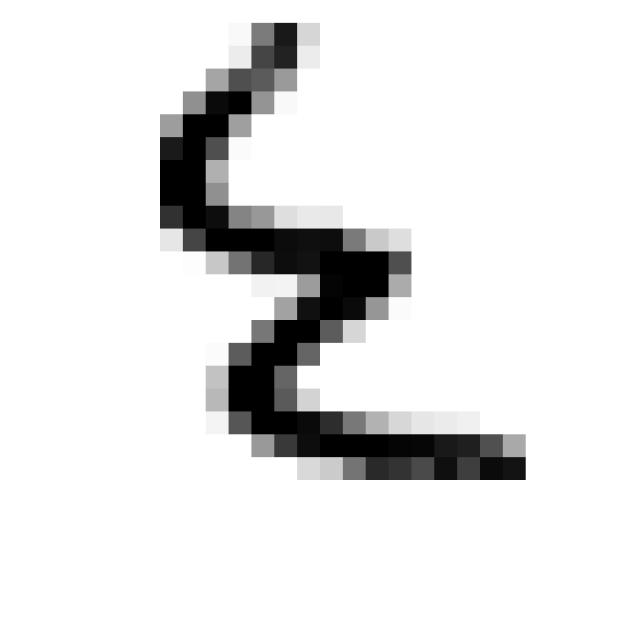4 -four-: (140, 9, 542, 503)
